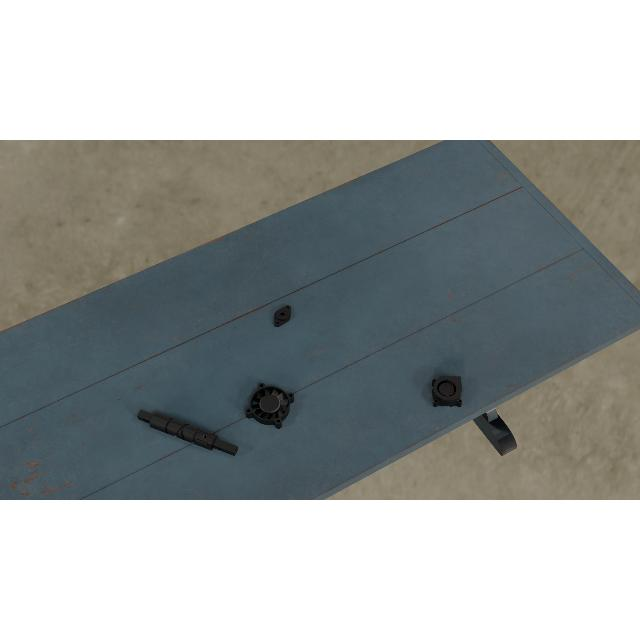Pieza1: (134, 404, 240, 462)
Pieza2: (268, 302, 296, 330)
Pieza3: (431, 376, 464, 408)
Pieza4: (244, 382, 296, 431)
